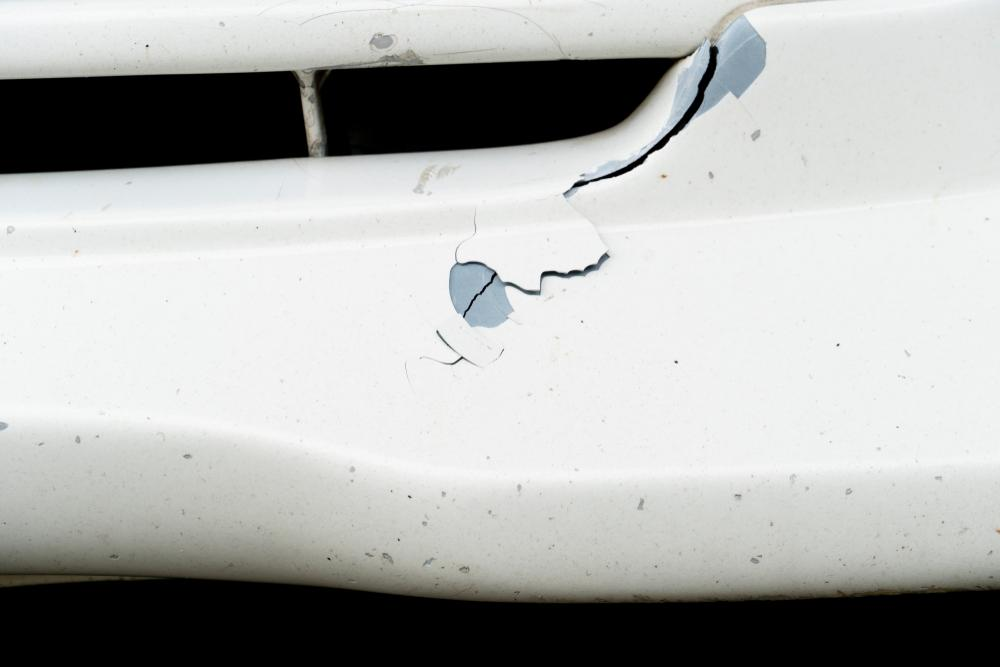crack: (455, 45, 719, 321), (404, 328, 506, 388)
